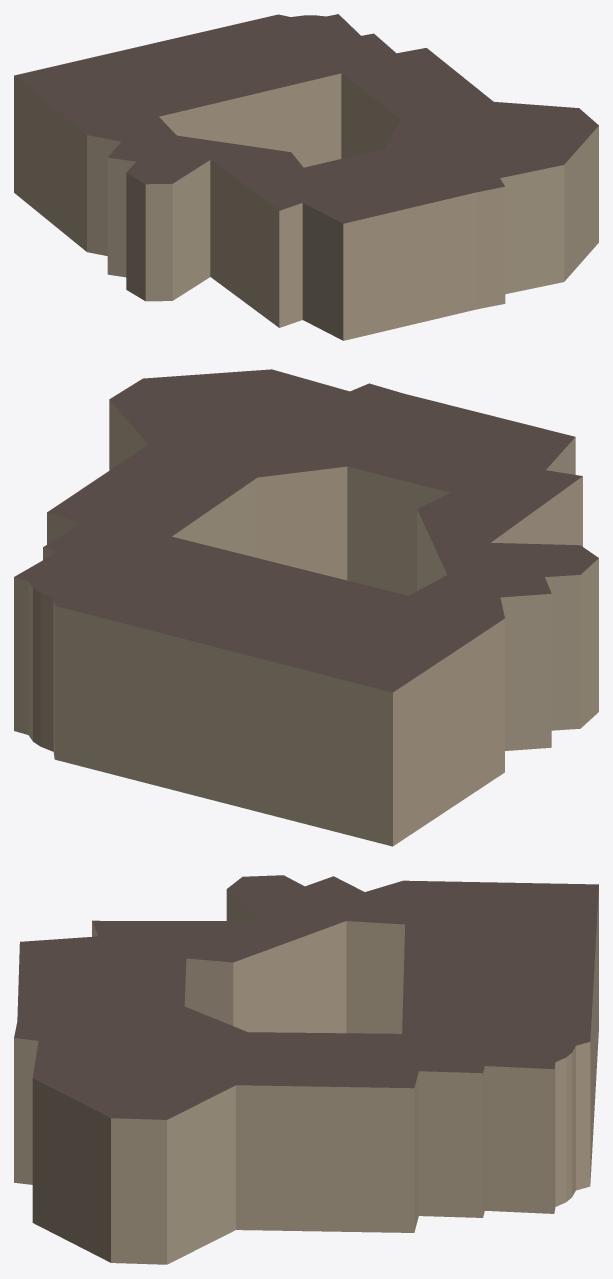
3 views of the same model, one above another, from view 1: azimuth 30°, elevation 25°; view 2: azimuth 150°, elevation 25°; view 3: azimuth 270°, elevation 25° (orthographic). The views are drawn at different scales.
Parts seen in each view (by area): view 1: HP-r20697776; view 2: HP-r20697776; view 3: HP-r20697776.
Boxes of the visible parts, left/top/right/bottom form: HP-r20697776: left=14, top=14, right=598, bottom=340; HP-r20697776: left=14, top=369, right=598, bottom=846; HP-r20697776: left=14, top=875, right=598, bottom=1264.
Bounding box in the file's own units: 32.63 × 9 × 32.95.
